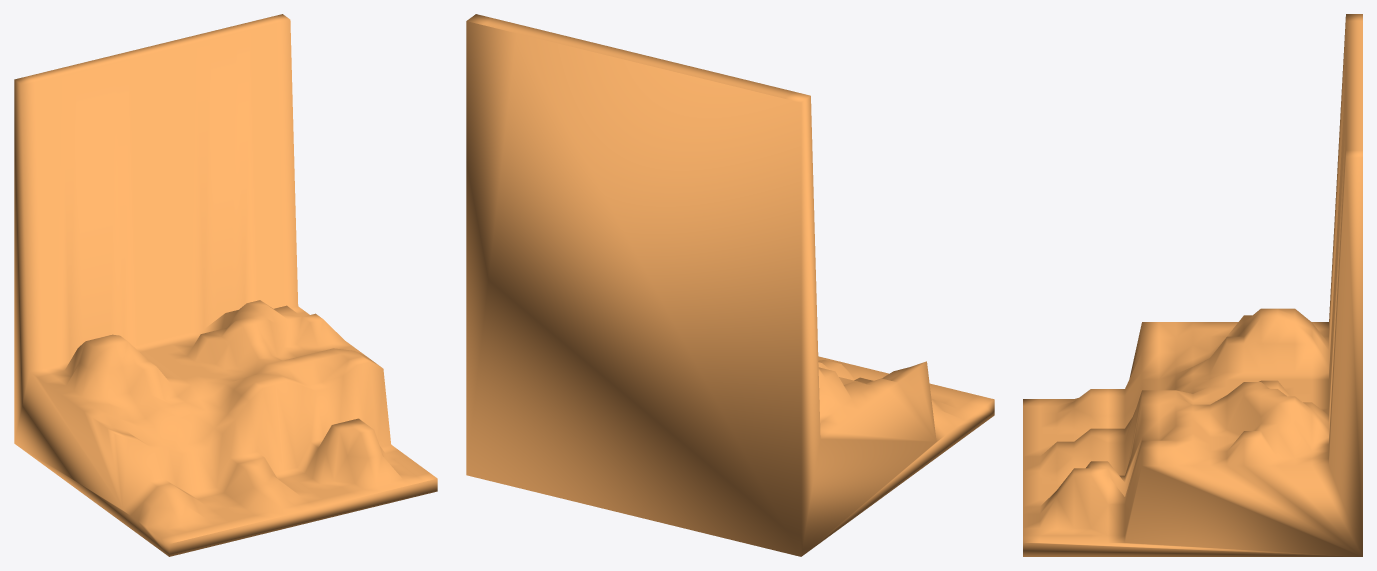
The model's file is right4.fbx.
3 views of the same model, side by side, from view 1: azimuth 30°, elevation 25°; view 2: azimuth 150°, elevation 25°; view 3: azimuth 270°, elevation 25° (orthographic). The views are drawn at different scales.
Parts seen in each view (by area): view 1: Model; view 2: Model; view 3: Model.
Boxes of the visible parts, x1=… form: Model: x1=14, y1=14, x2=437, y2=556; Model: x1=466, y1=14, x2=994, y2=556; Model: x1=1023, y1=14, x2=1362, y2=556.
Bounding box in the file's own units: 1000 × 1296 × 1000.
